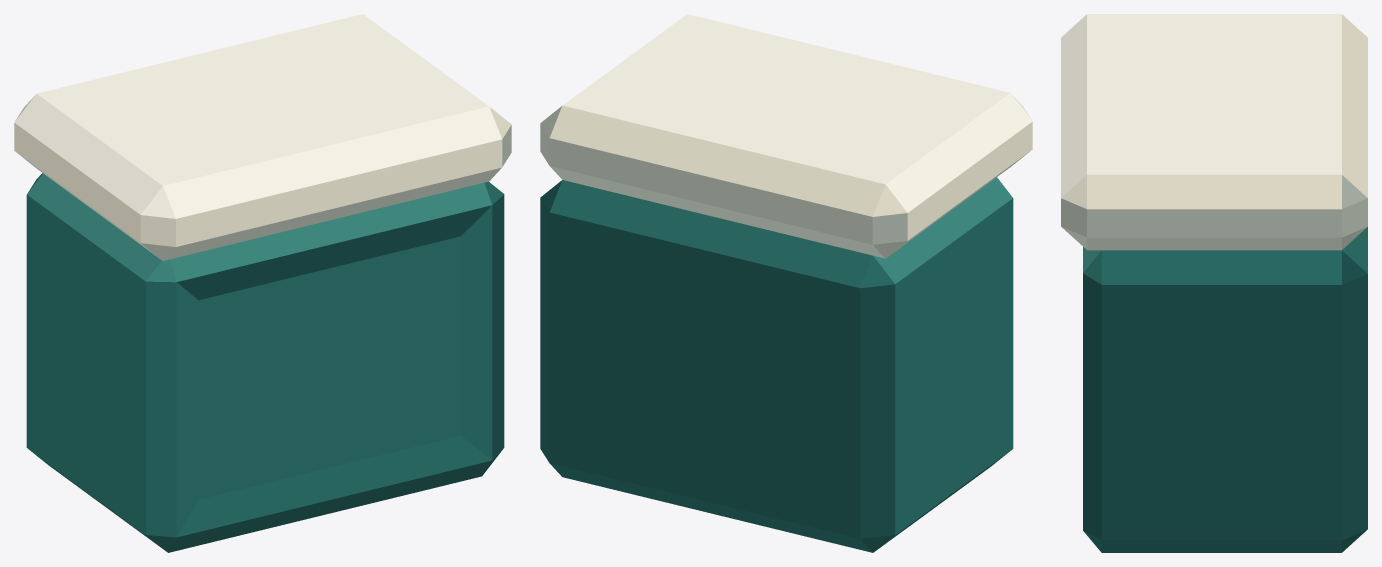
File: Terrain_TopRun1L.gltf
3 views of the same model, side by side, from view 1: azimuth 30°, elevation 25°; view 2: azimuth 150°, elevation 25°; view 3: azimuth 270°, elevation 25° (orthographic).
Visible parts, largest first — view 1: Terrain_TopRun1L_baked; view 2: Terrain_TopRun1L_baked; view 3: Terrain_TopRun1L_baked.
Part boxes in pixels (bbox=[...]): Terrain_TopRun1L_baked: bbox=[14, 14, 511, 552]; Terrain_TopRun1L_baked: bbox=[540, 14, 1032, 552]; Terrain_TopRun1L_baked: bbox=[1061, 14, 1367, 552].
Size of the model in its own units: 1.04 by 1 by 0.735.
